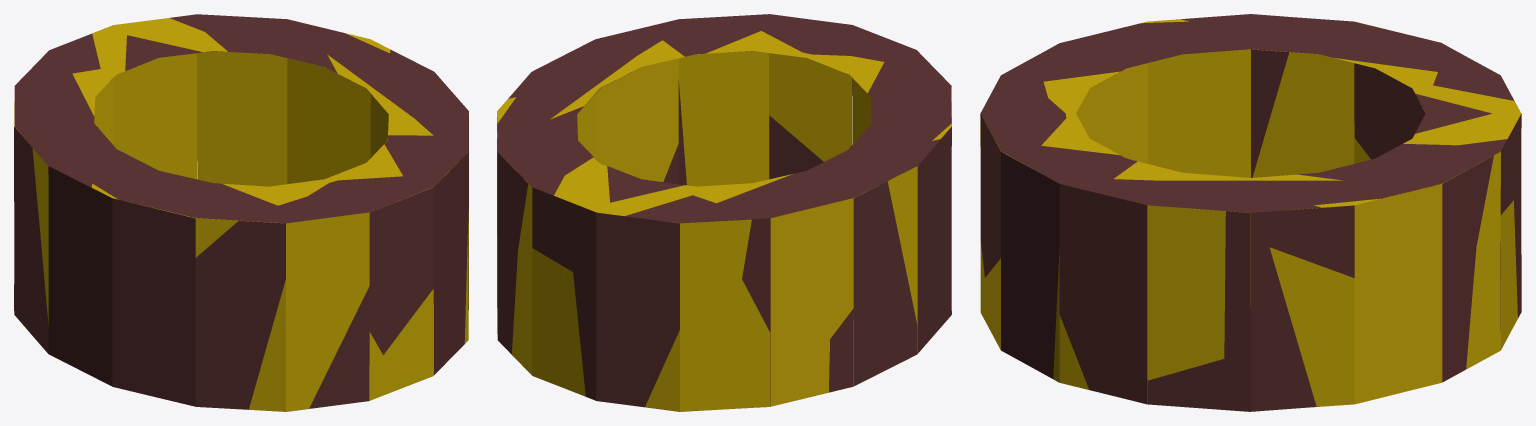
The model's file is original_14.obj.
3 renders of one model, left to right at view 1: azimuth 30°, elevation 25°; view 2: azimuth 150°, elevation 25°; view 3: azimuth 270°, elevation 25°, orthographic. The views are drawn at different scales.
Parts seen in each view (by area): view 1: #ID87; view 2: #ID87; view 3: #ID87.
Part boxes in pixels (x1,y1,x2,y2): #ID87: (14, 14, 468, 411); #ID87: (497, 14, 951, 411); #ID87: (980, 14, 1521, 411).
Size of the model in its own units: 0.3108 by 0.1453 by 0.3573.
